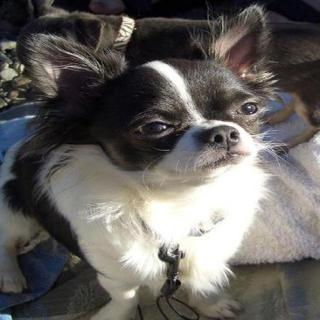dog: (38, 31, 280, 189)
nose: (205, 122, 240, 155)
